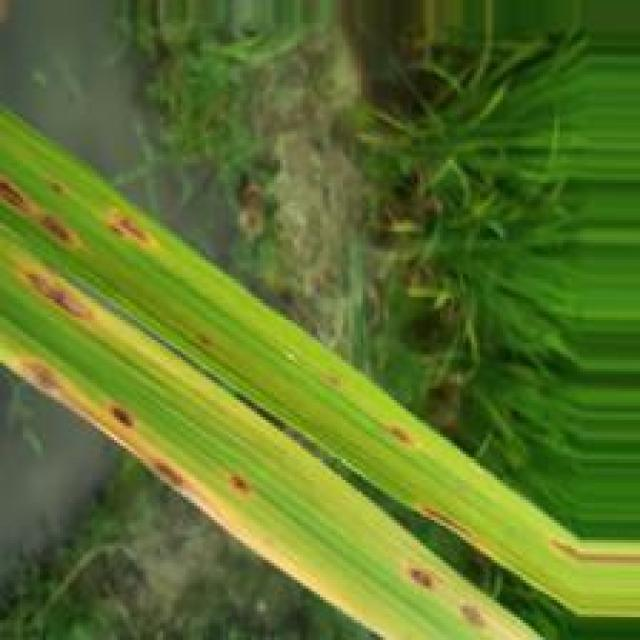Brown_Spot: (0, 173, 85, 253), (26, 269, 95, 321), (151, 462, 185, 486), (108, 405, 137, 430), (227, 477, 249, 498), (411, 568, 433, 589), (389, 428, 414, 446)
